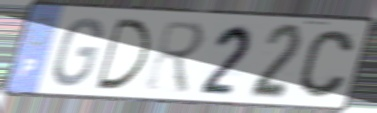2: (195, 20, 255, 100), (246, 20, 303, 102)
C: (295, 28, 357, 101)
D: (93, 16, 153, 92)
G: (50, 16, 105, 89)
R: (143, 18, 208, 97)
